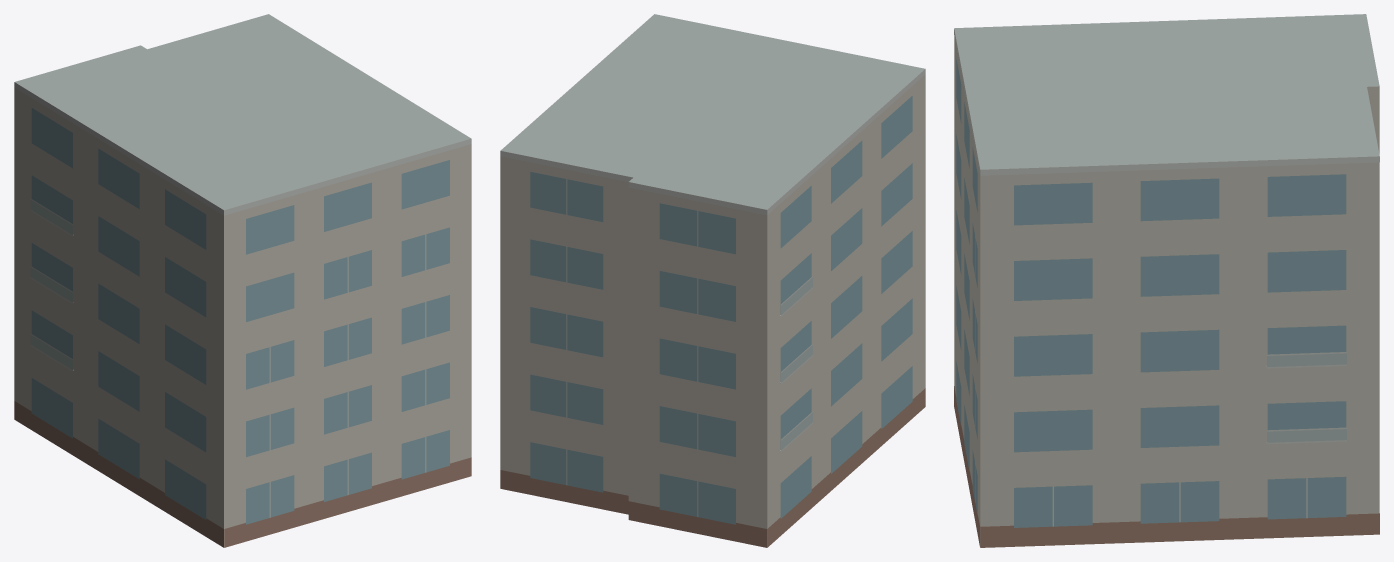
The model's file is survey-upis-32735000.glb.
3 renders of one model, left to right at view 1: azimuth 30°, elevation 25°; view 2: azimuth 150°, elevation 25°; view 3: azimuth 270°, elevation 25°, orthographic. The views are drawn at different scales.
Parts seen in each view (by area): view 1: survey-upis-32735000.tmp; view 2: survey-upis-32735000.tmp; view 3: survey-upis-32735000.tmp.
Part boxes in pixels (box(x1,y1,x2,y2)): survey-upis-32735000.tmp: box(14, 14, 471, 547); survey-upis-32735000.tmp: box(500, 14, 925, 547); survey-upis-32735000.tmp: box(954, 14, 1379, 547).
Bounding box in the file's own units: 13.52 × 15.3 × 15.62.
